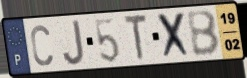5: (93, 17, 122, 64)
B: (185, 9, 222, 58)
C: (29, 23, 54, 68)
J: (61, 18, 86, 67)
T: (123, 13, 149, 63)
X: (156, 10, 193, 61)
